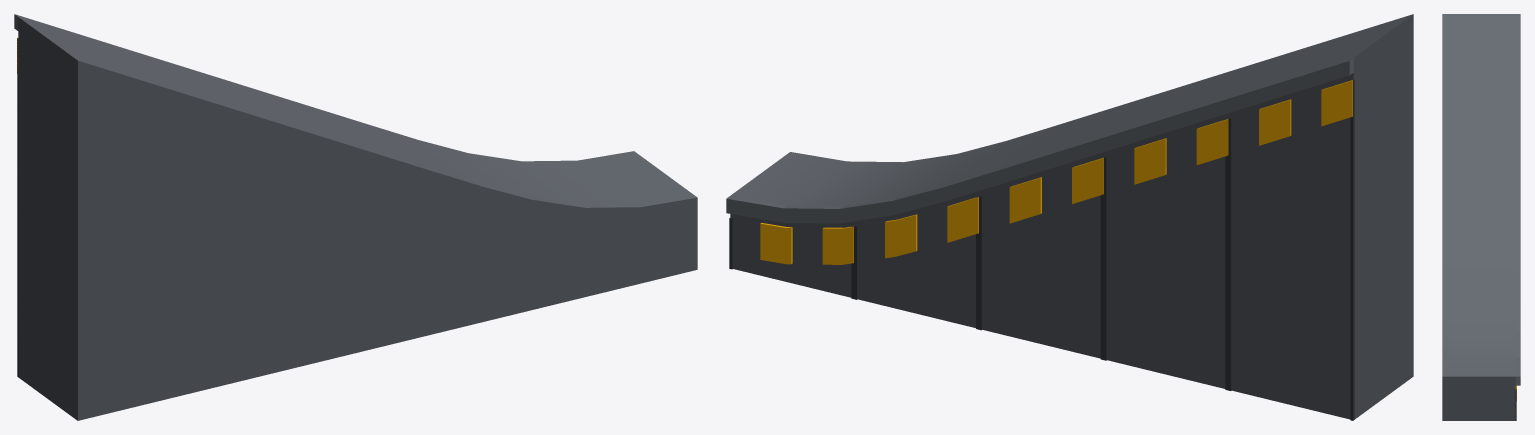
3 views of the same model, side by side, from view 1: azimuth 30°, elevation 25°; view 2: azimuth 150°, elevation 25°; view 3: azimuth 270°, elevation 25° (orthographic). The views are drawn at different scales.
Parts seen in each view (by area): view 1: d2wf; view 2: d2wf; view 3: d2wf.
Boxes of the visible parts, box(x1,y1,x2,y2) form: d2wf: box(14, 14, 697, 420); d2wf: box(726, 14, 1413, 420); d2wf: box(1442, 14, 1520, 420).
Size of the model in its own units: 9 by 5 by 1.6.
